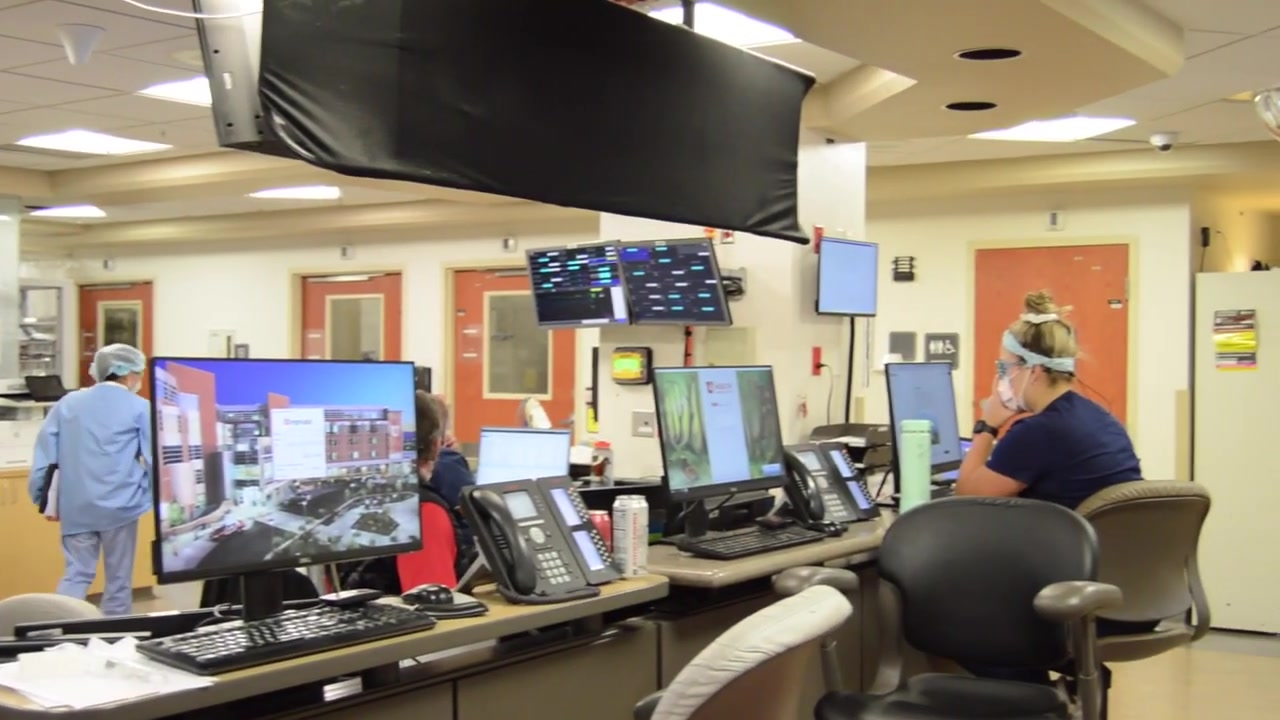TV: (622, 239, 733, 328), (526, 243, 630, 328), (816, 234, 881, 319)
chair: (775, 494, 1124, 720), (630, 581, 853, 720), (1068, 479, 1211, 662), (1, 594, 108, 638)
computer: (144, 353, 426, 641), (649, 364, 794, 546), (884, 362, 964, 507)
countertop: (2, 545, 671, 720), (629, 505, 905, 591)
keyboard: (132, 592, 438, 677), (672, 525, 829, 560)
mouse: (401, 583, 453, 611), (752, 513, 788, 531)
staff: (953, 290, 1144, 510), (28, 340, 150, 617), (328, 388, 473, 594)
telephone: (458, 476, 623, 598), (775, 442, 881, 527)
